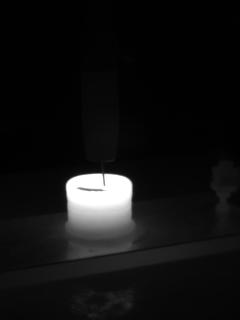tip_wire_left: (85, 157, 106, 188)
tip_wire_right: (102, 156, 118, 188)
